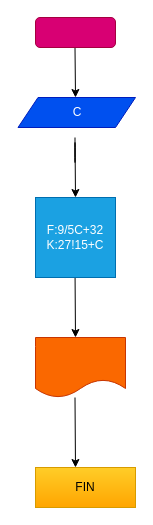
The diagram is 153 pixels wide and 525 high, and some of its shapes have lost their labels. The centre of each missing label's shape, as x and y in pixels:
"F,K" belongs at point 80,367.
"INICIO" belongs at point 75,32.
